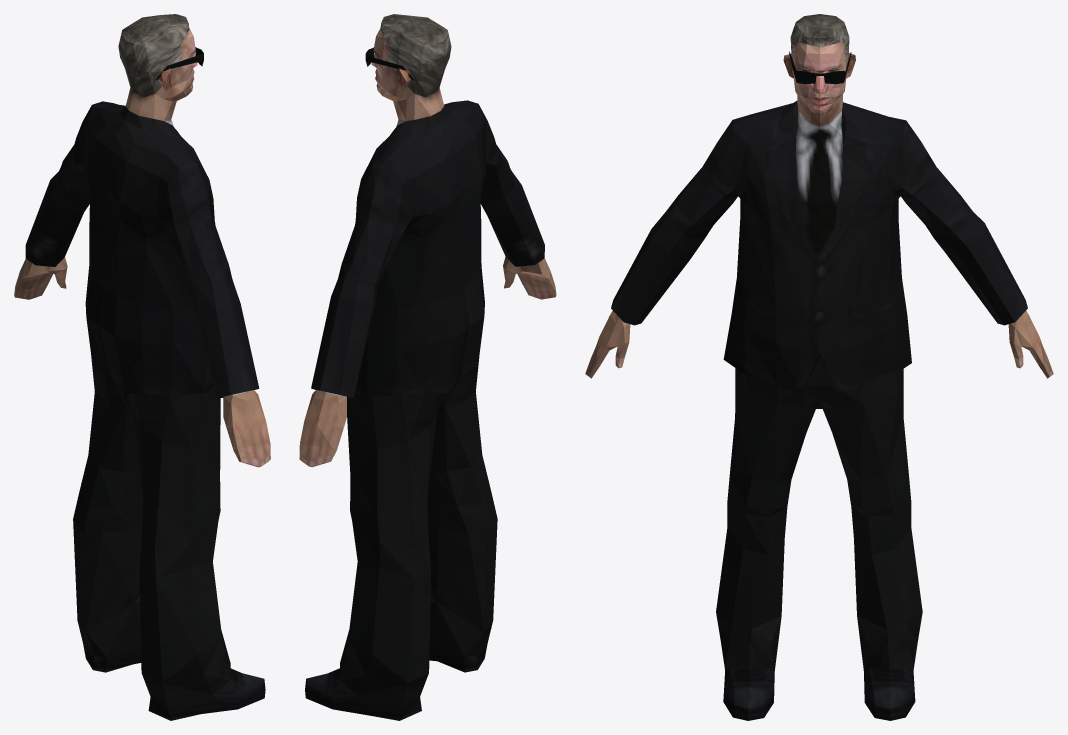
Rendered from wmomib.obj.
The picture shows the model from 3 angles, left to right: view 1: azimuth 30°, elevation 25°; view 2: azimuth 150°, elevation 25°; view 3: azimuth 270°, elevation 25°; orthographic projection.
Visible parts, largest first — view 1: _Pelvis; view 2: _Pelvis; view 3: _Pelvis.
Part boxes in pixels (x1=…): _Pelvis: x1=14, y1=14, x2=270, y2=720; _Pelvis: x1=299, y1=14, x2=556, y2=720; _Pelvis: x1=585, y1=14, x2=1053, y2=720.
Size of the model in its own units: 0.3753 by 1.83 by 1.17.
Materials: 1 (1 with a texture image).
